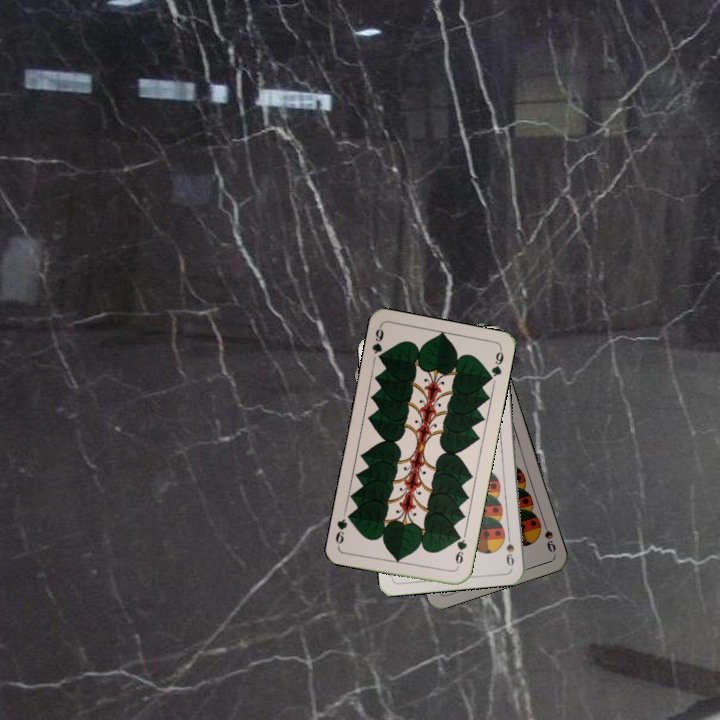G9: (451, 530, 470, 571), (368, 323, 386, 364)
S9: (539, 516, 558, 555), (502, 528, 517, 568)
